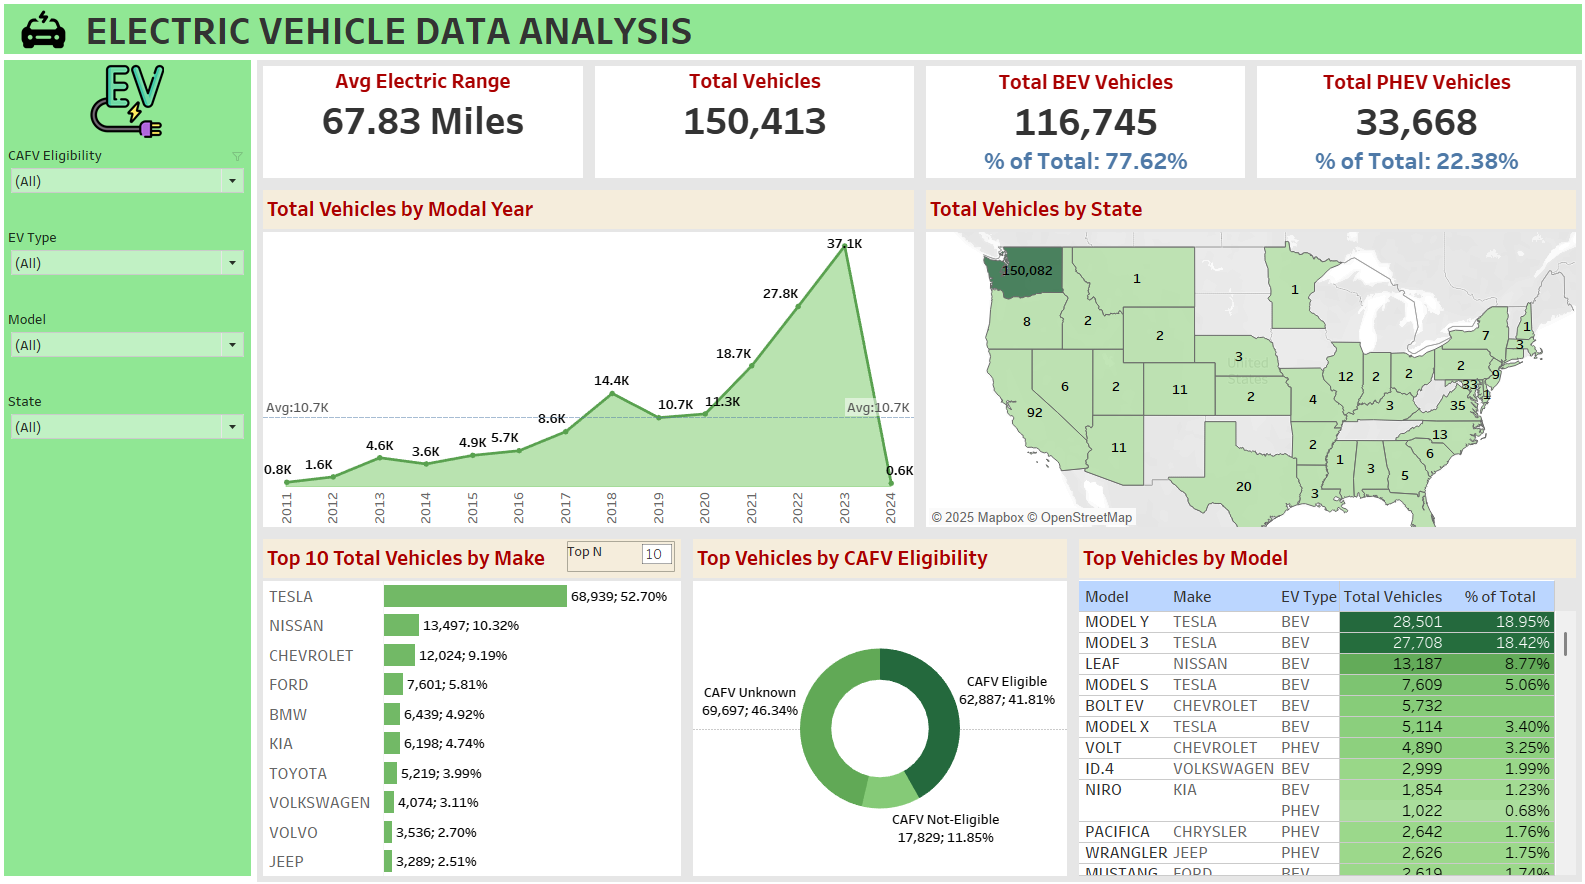

This screenshot's page, from the dashboard's own definition file:
{"tool":"tableau","page":{"name":"Dashboard 1","canvas":[1600,900],"ordinal":0},"visuals":[{"type":"image","param":"D:/Downloads/electric-car.png","box":[8,8,84,62]},{"type":"title","box":[92,8,1500,62]},{"type":"image","param":"D:/Downloads/ev_6946440.png","box":[14,70,247,82]},{"type":"worksheet","title":"Avg Electric Range","mark":"Automatic","box":[267,70,332,124]},{"type":"worksheet","title":"Total Vehicles","mark":"Automatic","box":[599,70,331,124]},{"type":"worksheet","title":"Total BEV Vehicles","mark":"Automatic","box":[930,70,331,124]},{"type":"worksheet","title":"Total PHEV Vehicles","mark":"Automatic","box":[1261,70,331,124]},{"type":"filter","title":"Total Vehicles by Modal Year","param":"[federated.0tk9s9w0fkjs3n1bbplyi1q6ryz8].[none:Clean Alternative Fuel Vehicle (C","box":[14,152,247,82]},{"type":"worksheet","title":"Total Vehicles by Modal Year","mark":"Area","rows":["Calculation_1288029559950221312","Calculation_1288029559950221312"],"cols":["Model Year"],"box":[267,193.7,663,349.3]},{"type":"worksheet","title":"Total Vehicles by State","mark":"Multipolygon","box":[930,193.7,662,349.3]},{"type":"filter","title":"Total Vehicles by Modal Year","param":"[federated.0tk9s9w0fkjs3n1bbplyi1q6ryz8].[none:Electric Vehicle Type:nk]","box":[14,234,247,82]},{"type":"filter","title":"Total Vehicles by Modal Year","param":"[federated.0tk9s9w0fkjs3n1bbplyi1q6ryz8].[none:Model:nk]","box":[14,316,247,82]},{"type":"filter","title":"Total Vehicles by Modal Year","param":"[federated.0tk9s9w0fkjs3n1bbplyi1q6ryz8].[none:State:nk]","box":[14,398,247,82]},{"type":"blank","box":[14,480,247,82]},{"type":"worksheet","title":"Top 10 Total Vehicles by Make","mark":"Automatic","rows":["Make"],"cols":["Calculation_1288029559950221312"],"box":[267,543,430,349]},{"type":"worksheet","title":"Total Vehicles by CAFV Eligibility","mark":"Pie","rows":["Calculation_1288029559973597191","Calculation_1288029559973597191"],"box":[697,543,386,349]},{"type":"worksheet","title":"Total Vehicles by Model","mark":"Square","rows":["Model","Make","Electric Vehicle Type"],"box":[1083,543,509,349]},{"type":"parameter","param":"[Parameters].[Parameter 1]","box":[577,551,108,31]},{"type":"blank","box":[14,562,247,81]},{"type":"blank","box":[14,643,247,81]},{"type":"blank","box":[14,724,247,81]},{"type":"blank","box":[14,805,247,81]}]}

Visuals, with their boxes in screenshot pixels (x1, y1, x2, y2), scaled from the page's 1600x900 canvas onto the 1585x884 screenshot:
image: bbox=[8, 8, 91, 69]
title: bbox=[91, 8, 1577, 69]
image: bbox=[14, 69, 259, 149]
"Avg Electric Range" worksheet: bbox=[264, 69, 593, 191]
"Total Vehicles" worksheet: bbox=[593, 69, 921, 191]
"Total BEV Vehicles" worksheet: bbox=[921, 69, 1249, 191]
"Total PHEV Vehicles" worksheet: bbox=[1249, 69, 1577, 191]
"Total Vehicles by Modal Year" filter: bbox=[14, 149, 259, 230]
"Total Vehicles by Modal Year" worksheet (Area marks): bbox=[264, 190, 921, 533]
"Total Vehicles by State" worksheet (Multipolygon marks): bbox=[921, 190, 1577, 533]
"Total Vehicles by Modal Year" filter: bbox=[14, 230, 259, 310]
"Total Vehicles by Modal Year" filter: bbox=[14, 310, 259, 391]
"Total Vehicles by Modal Year" filter: bbox=[14, 391, 259, 471]
blank: bbox=[14, 471, 259, 552]
"Top 10 Total Vehicles by Make" worksheet: bbox=[264, 533, 690, 876]
"Total Vehicles by CAFV Eligibility" worksheet (Pie marks): bbox=[690, 533, 1073, 876]
"Total Vehicles by Model" worksheet (Square marks): bbox=[1073, 533, 1577, 876]
parameter: bbox=[572, 541, 679, 572]
blank: bbox=[14, 552, 259, 632]
blank: bbox=[14, 632, 259, 711]
blank: bbox=[14, 711, 259, 791]
blank: bbox=[14, 791, 259, 870]
